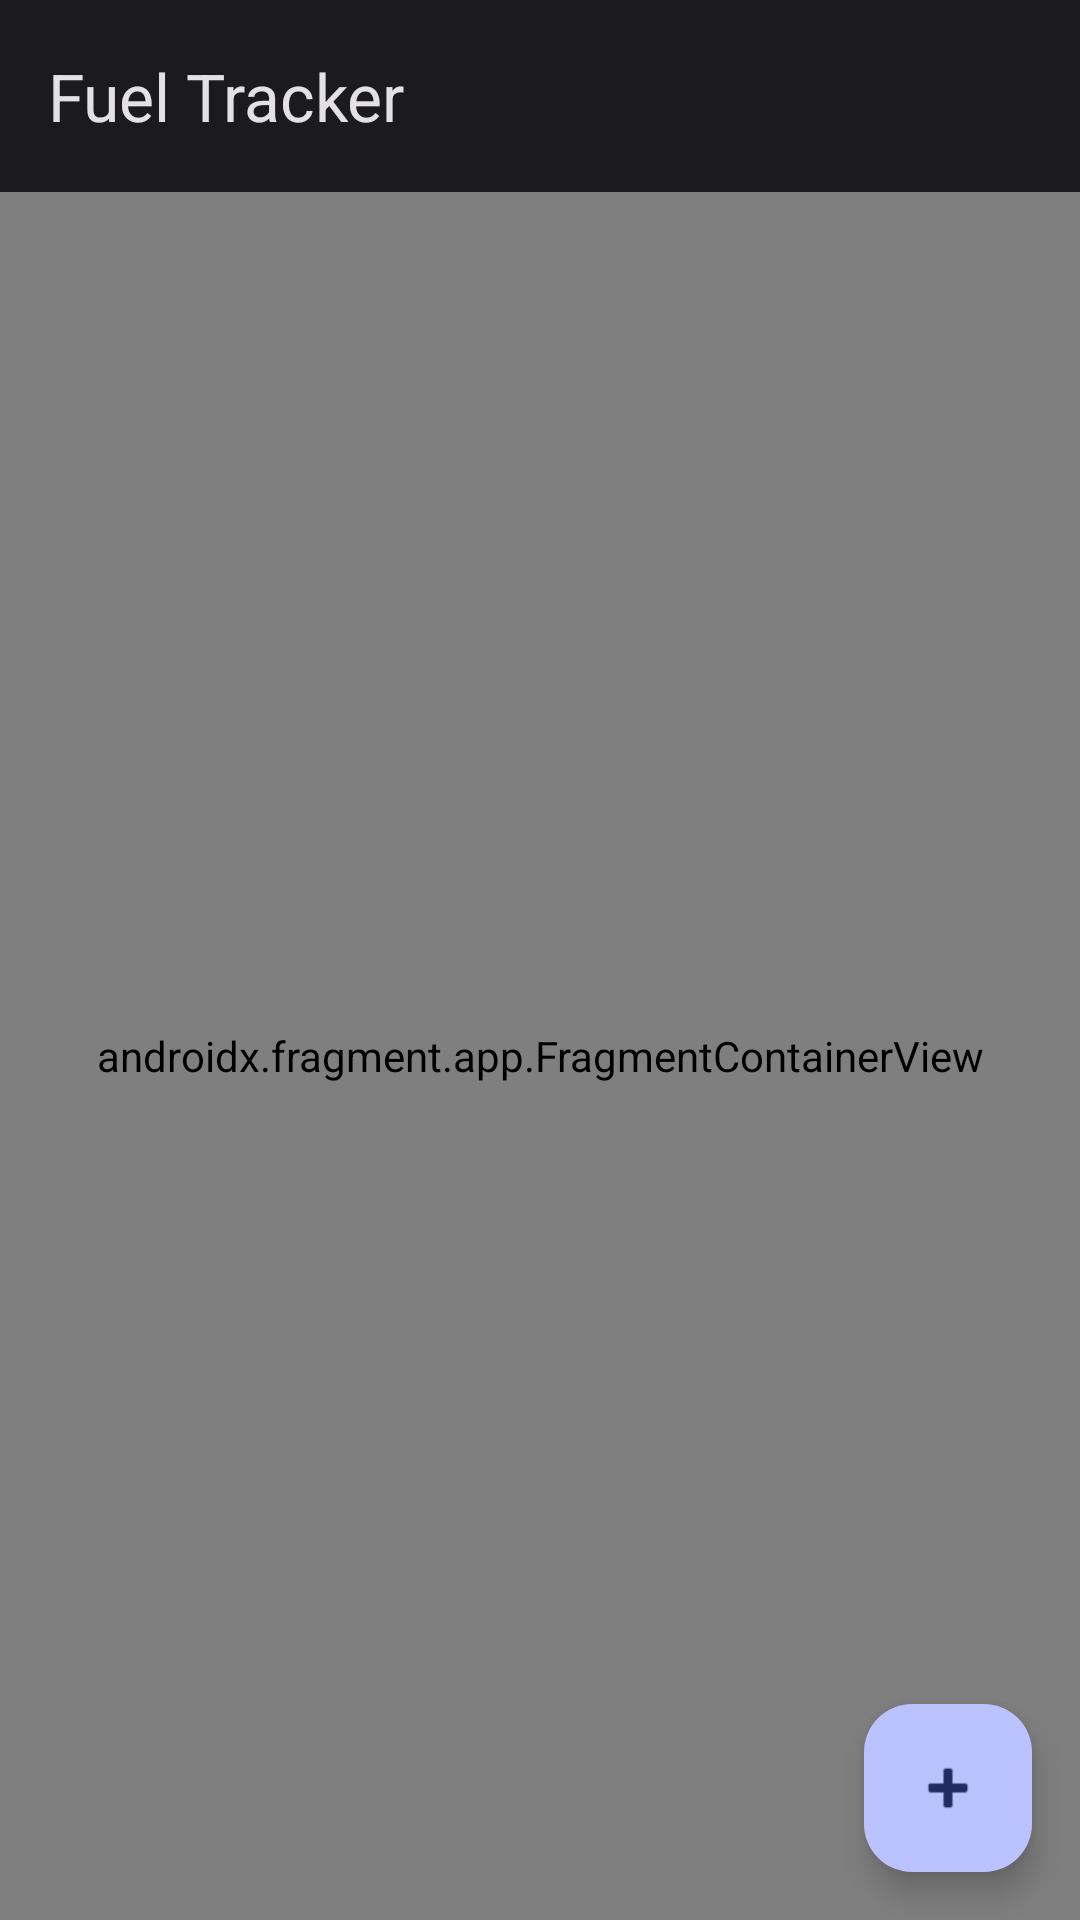

Point at icon controls on the screen. Image size 1080x1920, points as (x=x, y=y).
Новая заправка: (x=948, y=1788)
